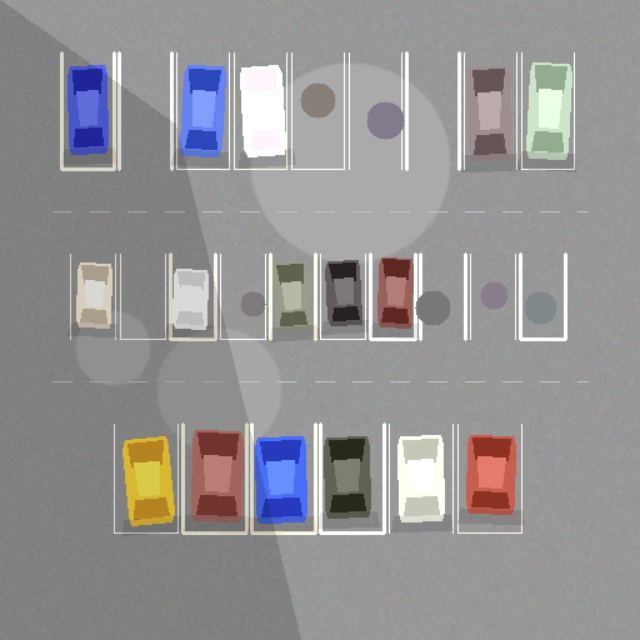space-empty: (291, 53, 344, 169), (406, 53, 459, 169), (119, 53, 171, 169), (349, 53, 401, 169), (120, 254, 165, 339), (220, 254, 265, 339), (420, 254, 465, 339), (470, 254, 515, 339), (520, 254, 565, 339)
space-occupied: (251, 424, 315, 532), (320, 424, 384, 532), (389, 424, 453, 532), (457, 424, 521, 532), (114, 424, 177, 532), (183, 424, 246, 532), (61, 53, 114, 169), (176, 53, 229, 169), (521, 53, 574, 169), (234, 53, 286, 169), (464, 53, 516, 169), (70, 254, 115, 339), (170, 254, 215, 339), (270, 254, 315, 339), (320, 254, 365, 339), (370, 254, 415, 339)
